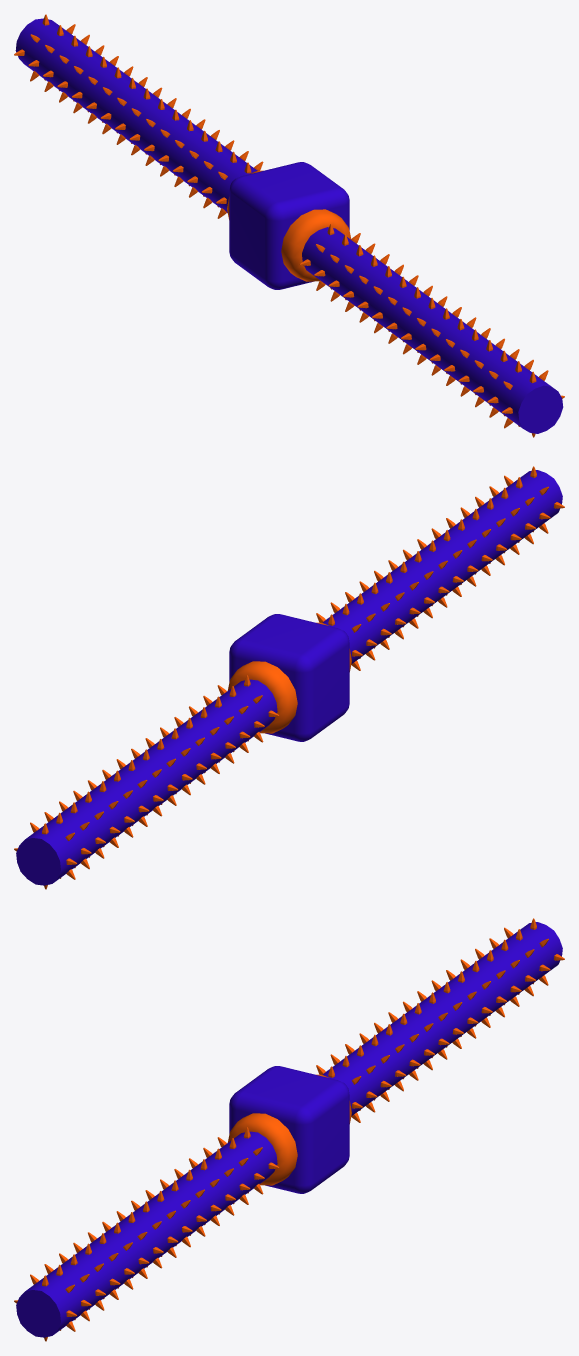
File: stopbar.fbx
The picture shows the model from 3 angles, top to bottom: view 1: azimuth 30°, elevation 25°; view 2: azimuth 150°, elevation 25°; view 3: azimuth 330°, elevation 25°; orthographic projection.
Parts seen in each view (by area): view 1: Base.012, Base.011, Base.009, Base, Base.010; view 2: Base.011, Base.012, Base.009, Base, Base.010; view 3: Base.012, Base.011, Base.009, Base, Base.010.
Part boxes in pixels (x1=…): Base.012: x1=302, y1=227, x2=563, y2=433; Base.011: x1=15, y1=18, x2=257, y2=212; Base.009: x1=229, y1=162, x2=349, y2=289; Base: x1=14, y1=14, x2=564, y2=437; Base.010: x1=227, y1=170, x2=351, y2=281; Base.011: x1=16, y1=679, x2=277, y2=885; Base.012: x1=322, y1=470, x2=562, y2=663; Base.009: x1=229, y1=614, x2=349, y2=741; Base: x1=14, y1=466, x2=564, y2=889; Base.010: x1=227, y1=622, x2=351, y2=733; Base.012: x1=16, y1=1131, x2=277, y2=1337; Base.011: x1=322, y1=922, x2=562, y2=1115; Base.009: x1=229, y1=1066, x2=349, y2=1193; Base: x1=14, y1=918, x2=564, y2=1341; Base.010: x1=227, y1=1074, x2=351, y2=1185.
Bounding box in the file's own units: 414 × 414 × 4338.
